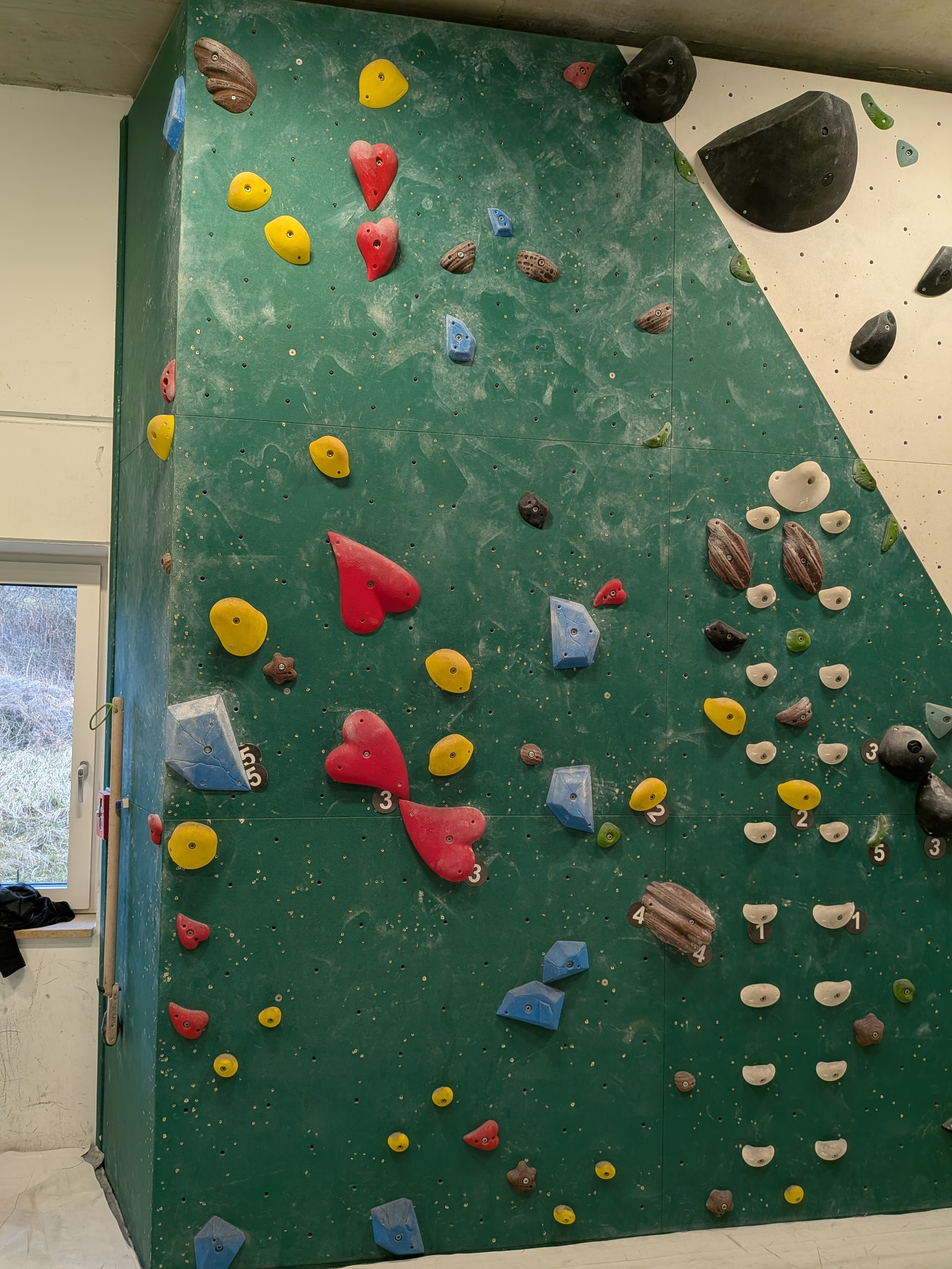hold: (698, 91, 857, 232), (328, 531, 419, 634), (165, 695, 250, 791), (325, 710, 409, 799), (400, 799, 485, 882), (619, 36, 696, 122), (640, 881, 716, 955), (194, 37, 257, 113), (550, 597, 599, 669), (209, 597, 267, 656), (349, 140, 398, 209), (879, 725, 937, 783), (498, 980, 564, 1030), (370, 1198, 425, 1256), (769, 461, 830, 513), (546, 765, 593, 832), (707, 518, 751, 589), (783, 521, 823, 593), (194, 1216, 244, 1269), (357, 218, 399, 280), (851, 311, 896, 365), (915, 772, 952, 837), (359, 59, 408, 108), (168, 821, 217, 869), (265, 215, 310, 264), (425, 648, 471, 693), (542, 940, 589, 983), (429, 734, 473, 776), (916, 246, 952, 296), (228, 171, 271, 212), (309, 435, 349, 479), (163, 76, 185, 152), (704, 697, 745, 735), (446, 315, 476, 364), (516, 250, 559, 282), (704, 620, 747, 652), (169, 1003, 208, 1038), (777, 779, 821, 810), (629, 777, 666, 812), (176, 912, 210, 950), (147, 414, 174, 460), (861, 92, 894, 129), (440, 241, 475, 274), (776, 696, 812, 728), (636, 302, 672, 334), (518, 492, 549, 529), (813, 902, 855, 929), (263, 652, 297, 685), (463, 1120, 499, 1151), (506, 1160, 537, 1194), (853, 1012, 884, 1046), (740, 983, 780, 1009), (814, 980, 851, 1007), (593, 578, 627, 607), (925, 702, 952, 738), (563, 61, 595, 90), (674, 148, 698, 184), (818, 586, 851, 611), (746, 506, 780, 530), (705, 1189, 733, 1218), (819, 663, 850, 689), (819, 510, 851, 535), (881, 513, 901, 553), (742, 1063, 776, 1086), (746, 662, 777, 687), (730, 253, 755, 284), (852, 458, 876, 490), (642, 421, 671, 447), (746, 583, 776, 608), (746, 740, 777, 764), (815, 1138, 847, 1161), (742, 1145, 775, 1167), (487, 207, 512, 236), (744, 821, 776, 843), (743, 904, 777, 924), (867, 813, 887, 847), (160, 359, 175, 403), (816, 1061, 847, 1082), (596, 822, 621, 848), (786, 627, 811, 653), (817, 743, 847, 764), (897, 139, 918, 167), (819, 822, 848, 842), (893, 978, 915, 1004), (258, 1005, 281, 1027), (520, 743, 543, 765), (674, 1070, 696, 1093), (148, 814, 163, 844), (388, 1132, 409, 1153), (553, 1204, 575, 1224), (432, 1086, 453, 1106), (595, 1160, 615, 1180), (784, 1185, 803, 1205), (160, 552, 171, 574)
